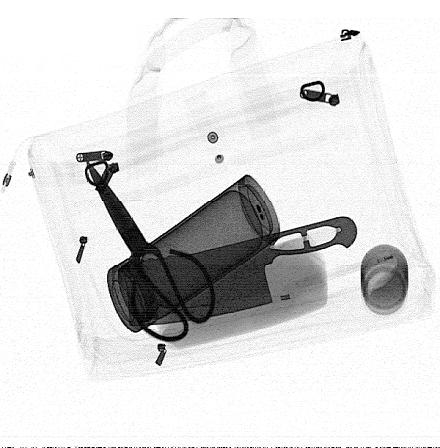Knife: (124, 217, 357, 327)
Scissors: (83, 156, 217, 343)
